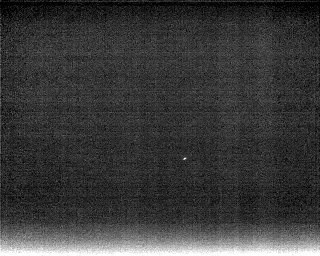BIRD: (181, 154, 189, 163)
